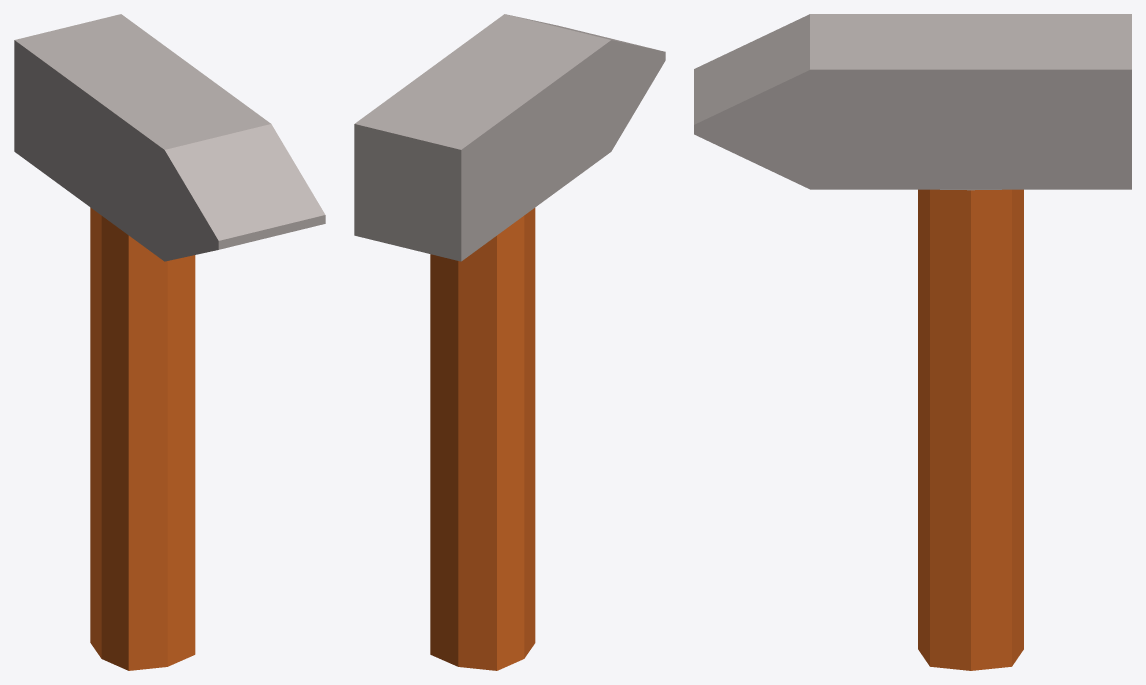
File: steel_hammer.glb
The picture shows the model from 3 angles, left to right: view 1: azimuth 30°, elevation 25°; view 2: azimuth 150°, elevation 25°; view 3: azimuth 270°, elevation 25°; orthographic projection. The views are drawn at different scales.
Parts seen in each view (by area): view 1: Cube; view 2: Cube; view 3: Cube.
Part boxes in pixels (<box>): Cube: <box>14,14,325,670</box>; Cube: <box>354,14,665,670</box>; Cube: <box>694,14,1131,670</box>.
Size of the model in its own units: 0.7471 by 3.79 by 2.48.
